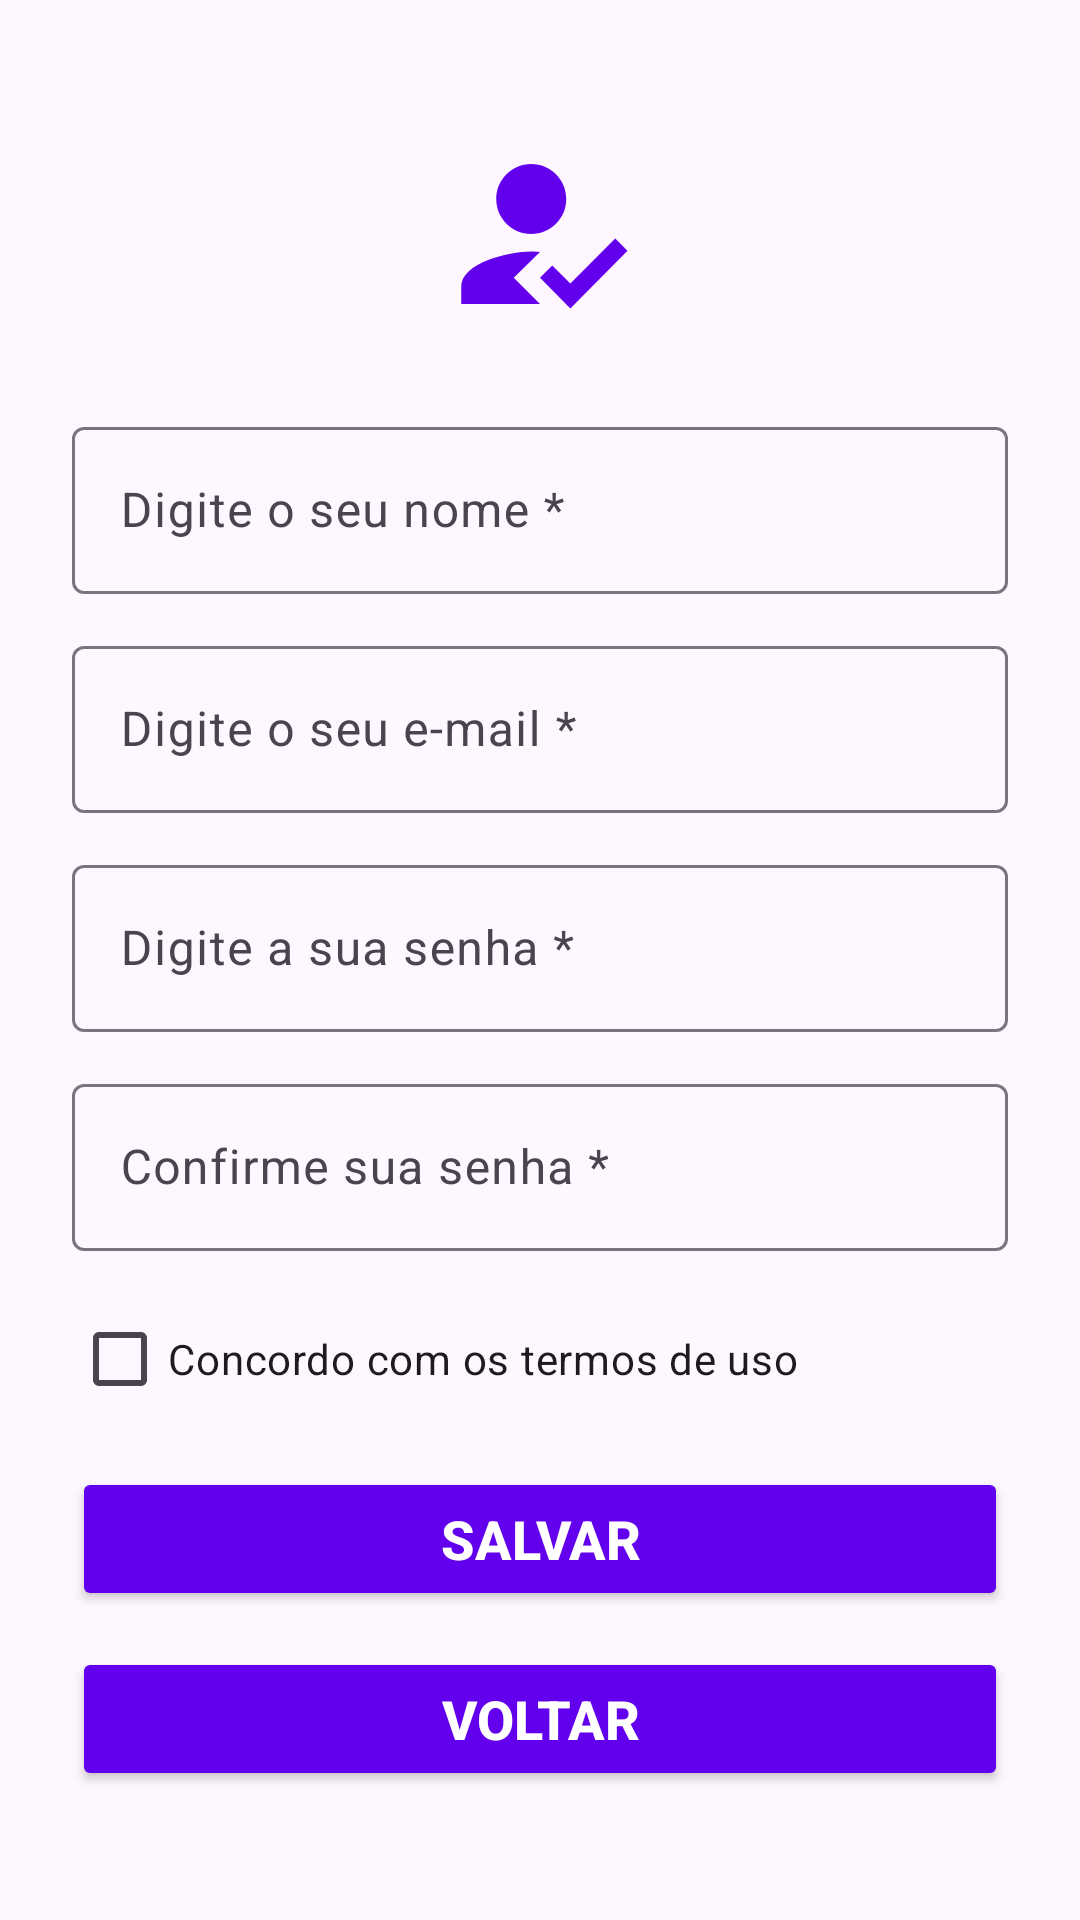

Where to tap for icons on this 1080×1920 app screen, as point (x, y):
reg: point (544, 236)
